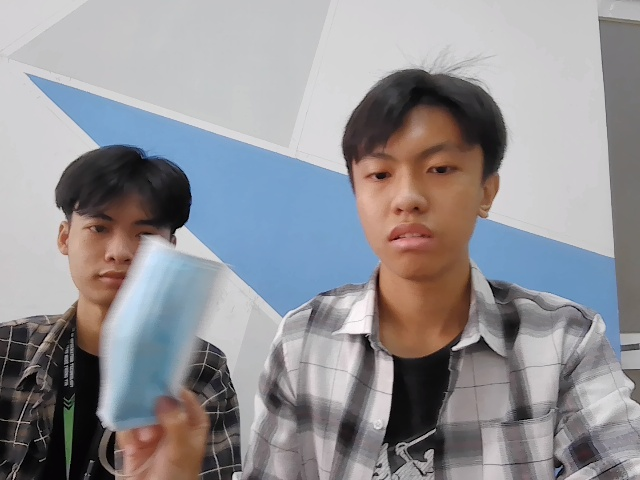human: (328, 55, 505, 279)
mask: (89, 238, 237, 427)
